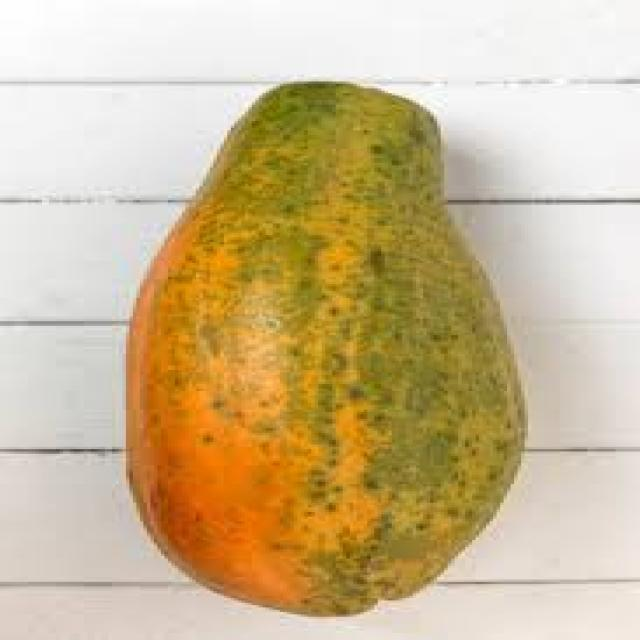Papaya: (153, 82, 501, 614)
